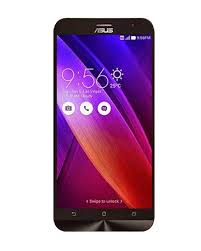asus: (48, 14, 158, 233)
